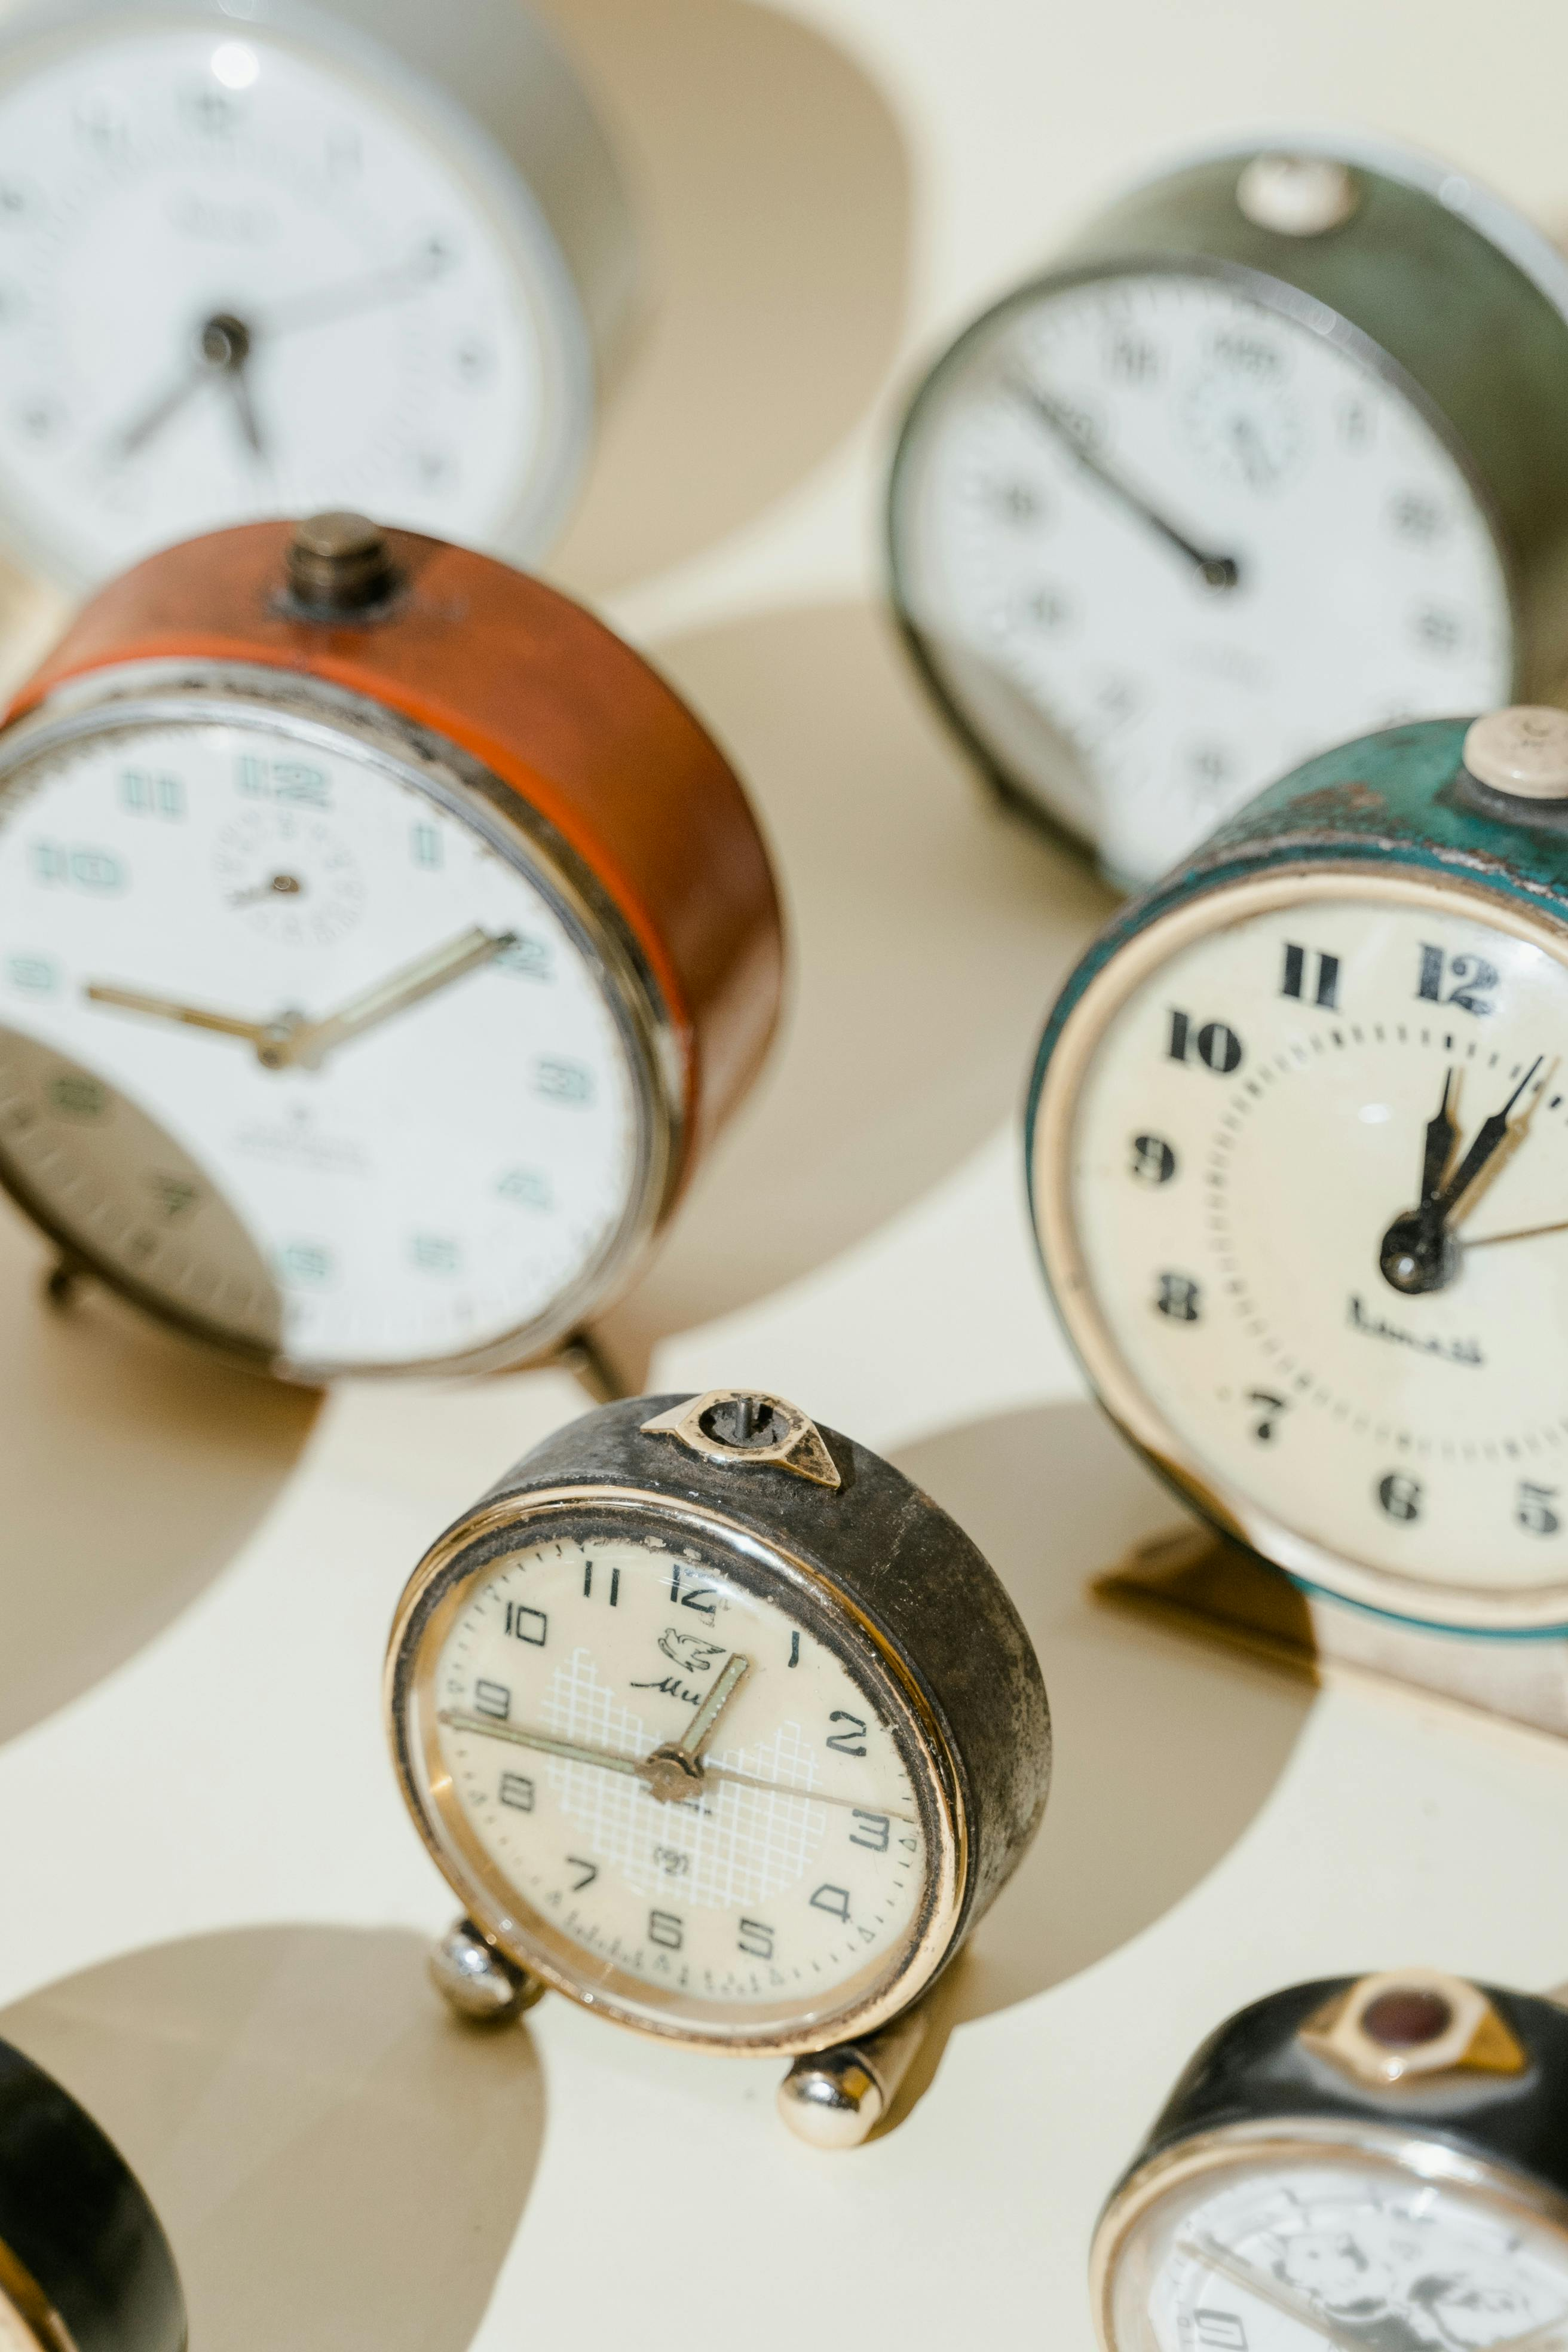clock: (9, 9, 1568, 2334)
